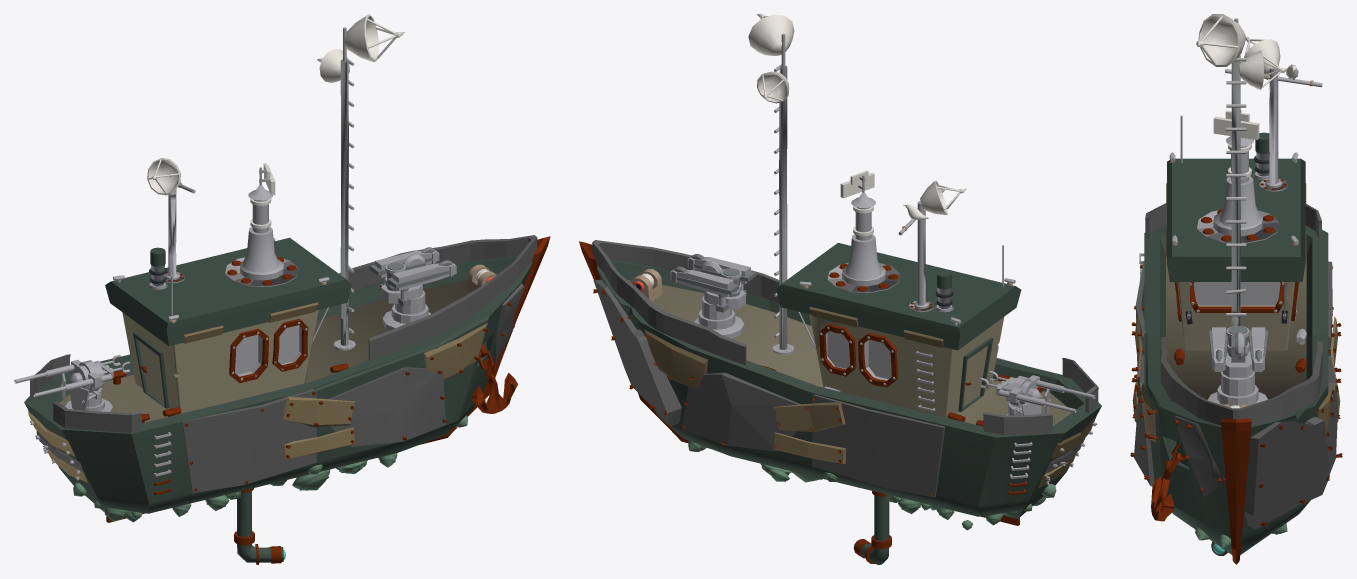
File: ship_boat_3.glb
3 renders of one model, left to right at view 1: azimuth 30°, elevation 25°; view 2: azimuth 150°, elevation 25°; view 3: azimuth 270°, elevation 25°, orthographic. The views are drawn at different scales.
Parts seen in each view (by area): view 1: polySurface279_NewMaterial2_0; view 2: polySurface279_NewMaterial2_0; view 3: polySurface279_NewMaterial2_0.
Boxes of the visible parts, box(x1,y1,x2,y2) form: polySurface279_NewMaterial2_0: box(14, 14, 550, 564); polySurface279_NewMaterial2_0: box(579, 14, 1101, 564); polySurface279_NewMaterial2_0: box(1130, 14, 1342, 564).
Bounding box in the file's own units: 13.67 × 13.24 × 4.31.
1 material, 1 textured.
